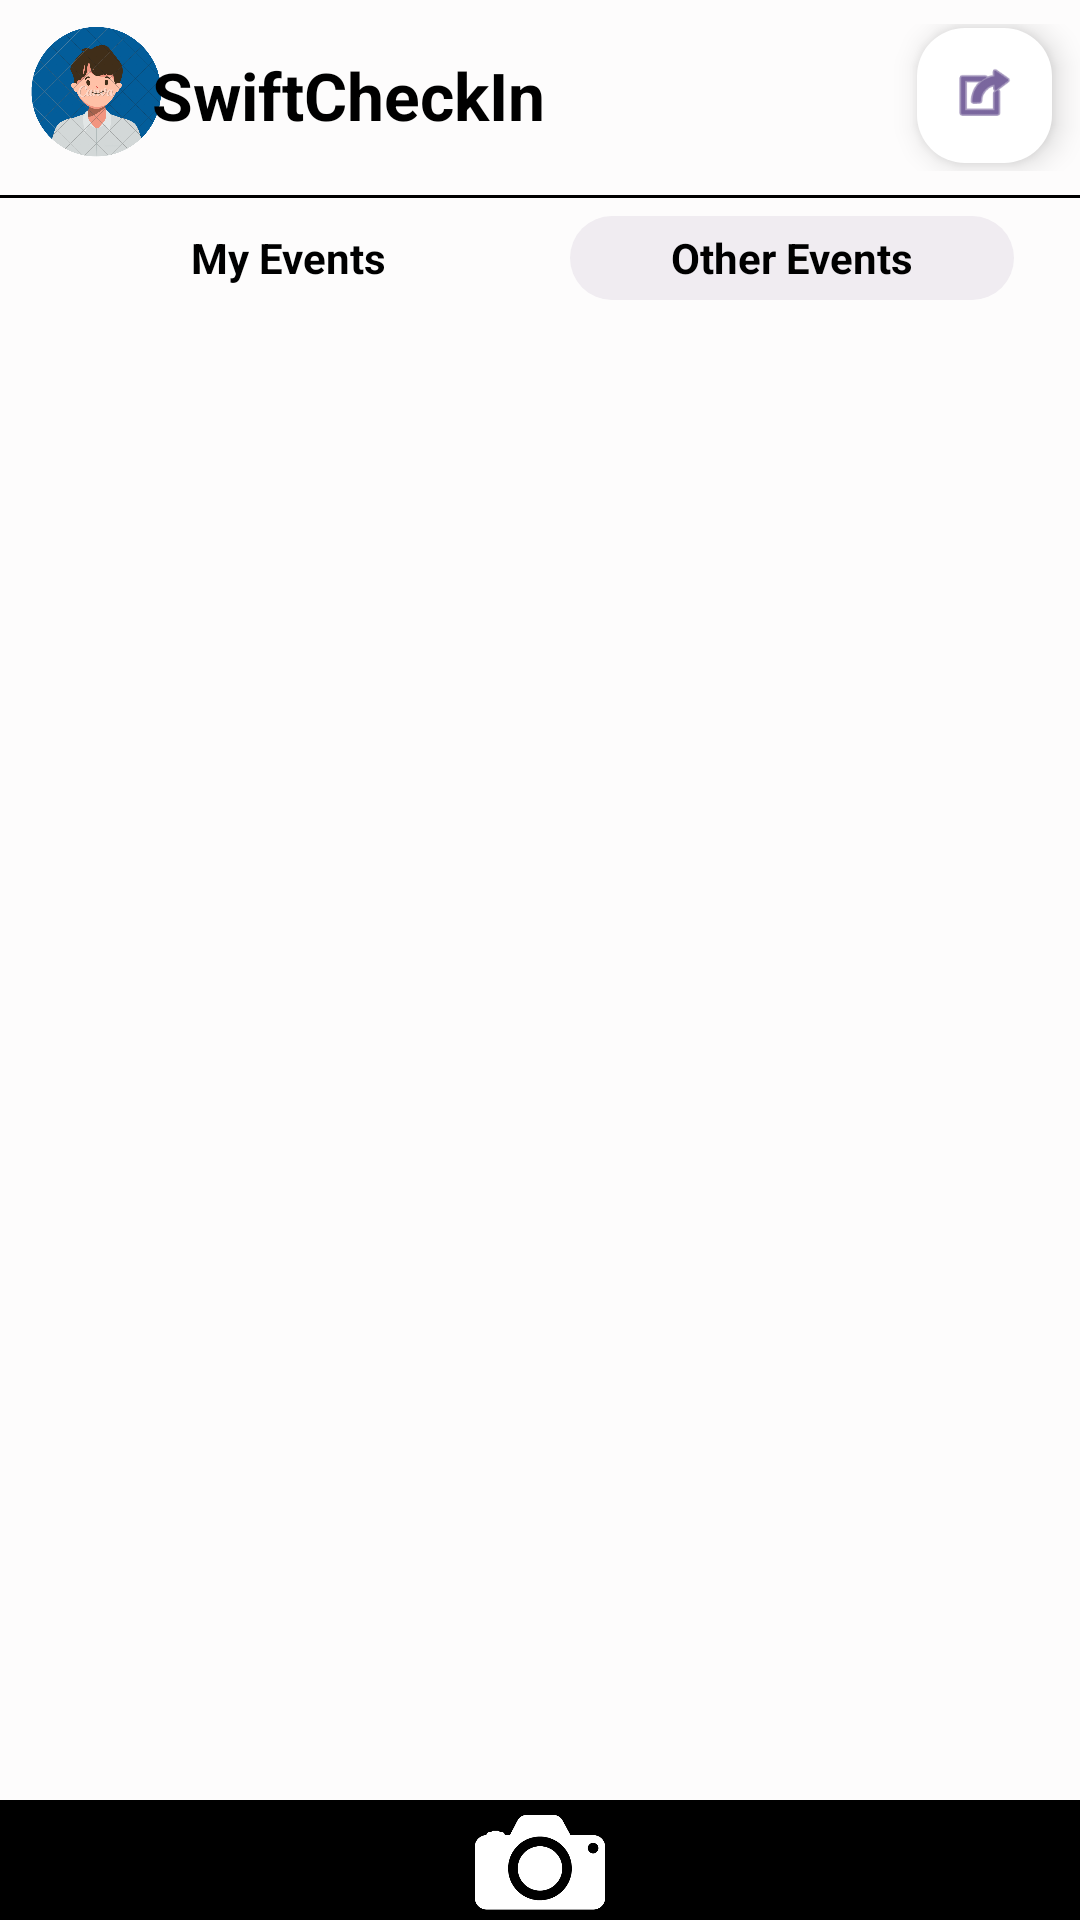

Screen size 1080 x 1920. Icon name, then its box in pixels as (x1, y1, x2, y2):
profile pic: (31, 27, 168, 156)
set as: (959, 69, 1010, 116)
